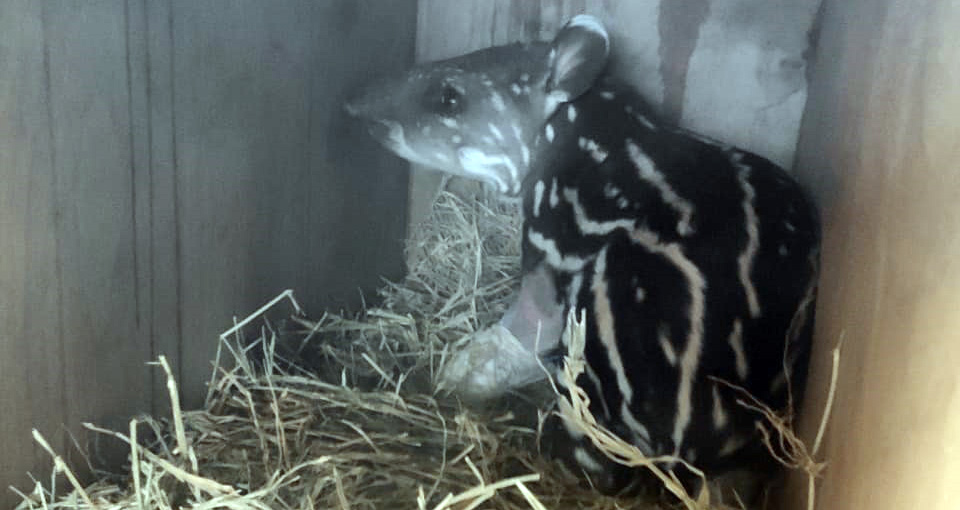Anta: (328, 9, 822, 495)
